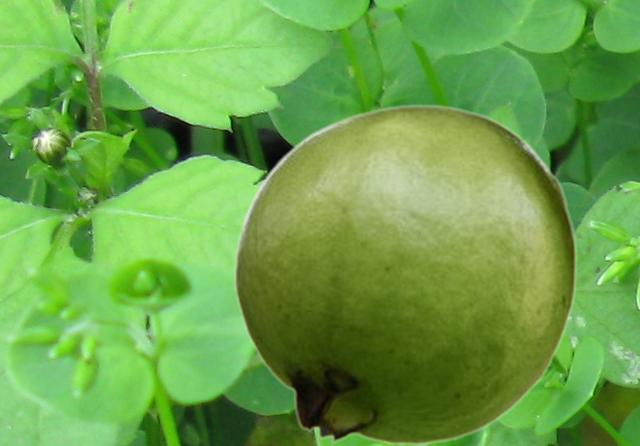guava: (233, 103, 577, 444)
